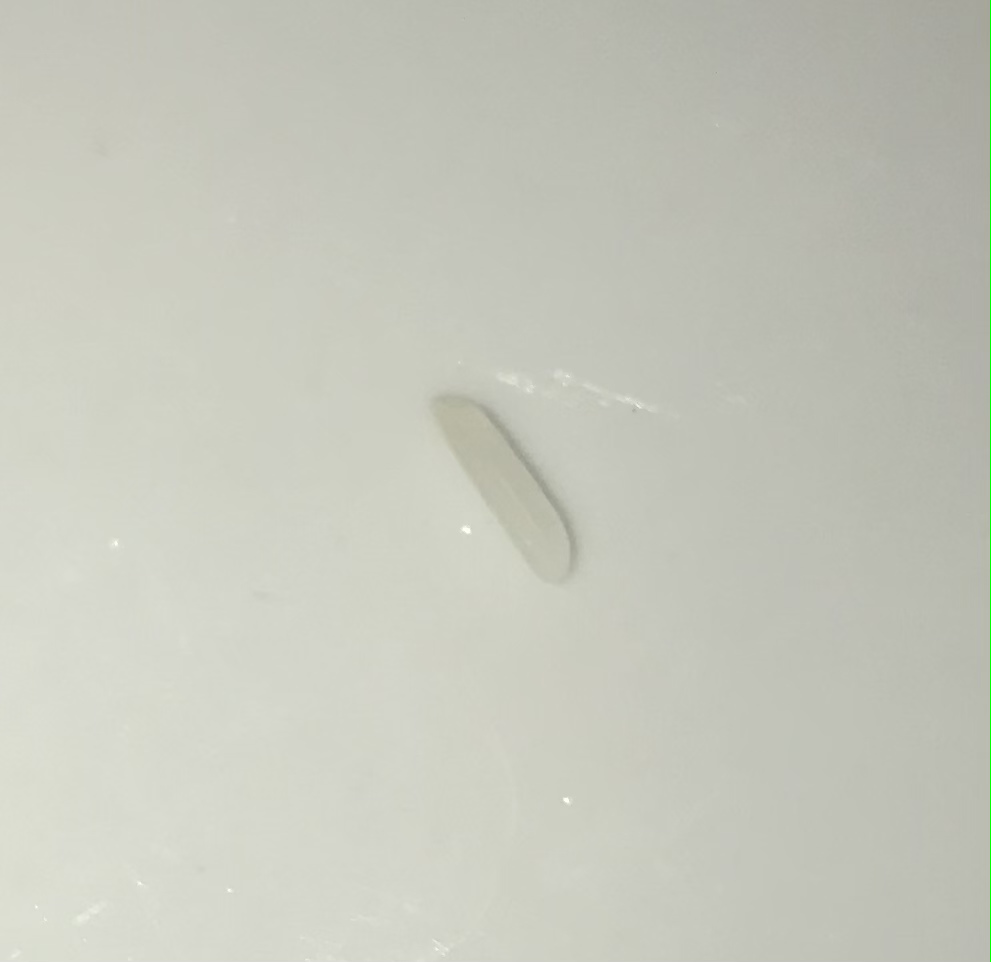Gao Thom Go Cong: (409, 358, 607, 603)
